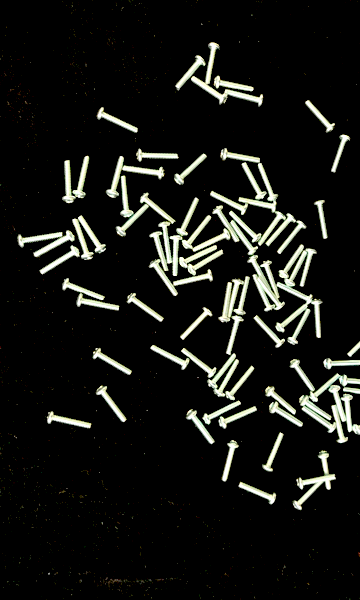longscrew: (95, 385, 128, 429), (93, 347, 133, 379), (177, 346, 217, 378), (35, 229, 77, 258), (39, 248, 81, 277), (149, 344, 188, 375), (128, 293, 167, 324), (305, 95, 335, 134), (176, 148, 207, 185), (241, 160, 267, 204), (67, 217, 93, 261), (249, 256, 275, 300), (331, 132, 356, 176), (217, 440, 242, 484), (261, 430, 286, 474), (56, 159, 81, 203), (81, 214, 106, 258), (299, 393, 335, 423), (208, 189, 251, 214), (259, 159, 284, 202), (71, 155, 96, 198), (301, 407, 336, 437), (139, 193, 176, 221), (174, 57, 206, 89), (117, 206, 151, 236), (248, 277, 277, 312), (186, 408, 215, 443), (267, 383, 296, 418), (258, 212, 286, 248), (183, 307, 211, 343), (258, 276, 286, 312), (194, 225, 231, 252), (254, 316, 284, 349), (227, 364, 253, 402), (278, 221, 306, 256), (267, 214, 295, 249), (151, 261, 179, 296), (97, 110, 139, 133), (311, 371, 341, 402), (185, 212, 210, 249), (203, 401, 240, 426), (269, 399, 303, 426), (277, 283, 313, 308), (215, 360, 239, 397), (209, 354, 234, 389), (289, 359, 317, 390), (148, 231, 168, 274), (180, 244, 217, 267), (311, 199, 331, 241), (104, 156, 124, 198), (117, 176, 137, 218), (220, 147, 264, 166), (138, 145, 182, 164), (19, 227, 63, 246), (236, 484, 280, 503), (178, 192, 197, 236), (189, 249, 225, 272), (231, 222, 256, 255), (124, 163, 167, 182), (284, 252, 306, 289), (231, 212, 260, 240), (213, 208, 238, 240), (223, 90, 267, 108), (214, 75, 258, 93), (48, 413, 92, 431), (221, 406, 257, 428), (278, 303, 306, 331), (281, 245, 304, 279), (62, 281, 105, 299), (77, 295, 120, 313), (295, 472, 338, 490), (240, 195, 278, 215), (319, 357, 360, 375), (262, 262, 281, 299), (291, 309, 309, 345), (227, 279, 242, 321), (334, 405, 349, 447), (342, 393, 357, 435), (168, 234, 183, 276), (302, 248, 317, 290), (175, 271, 213, 287), (219, 281, 233, 323), (228, 316, 242, 358), (236, 274, 250, 316), (311, 298, 325, 340), (320, 450, 334, 492), (332, 383, 346, 425), (161, 222, 175, 263), (338, 372, 360, 390), (341, 386, 360, 399)
